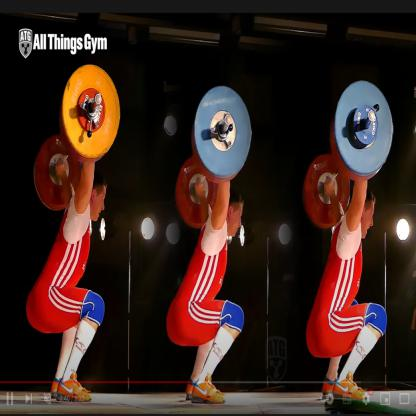Barbell: (189, 80, 256, 185), (59, 58, 125, 160), (332, 74, 396, 179)
